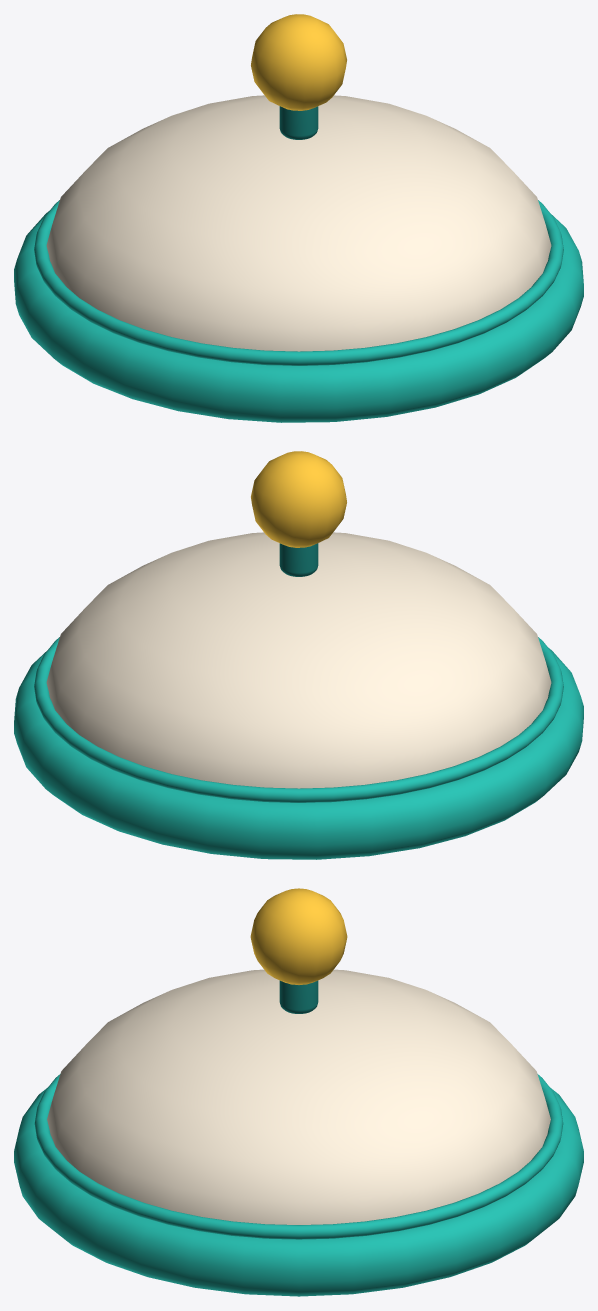
File: GrowerLid.fbx
The picture shows the model from 3 angles, top to bottom: view 1: azimuth 30°, elevation 25°; view 2: azimuth 150°, elevation 25°; view 3: azimuth 270°, elevation 25°; orthographic projection.
Parts seen in each view (by area): view 1: GrowerLid mesh; view 2: GrowerLid mesh; view 3: GrowerLid mesh.
Part boxes in pixels (x1,y1,x2,y2): GrowerLid mesh: [14, 14, 583, 422]; GrowerLid mesh: [14, 451, 583, 859]; GrowerLid mesh: [14, 888, 583, 1296].
Size of the model in its own units: 0.47 by 0.325 by 0.47.
